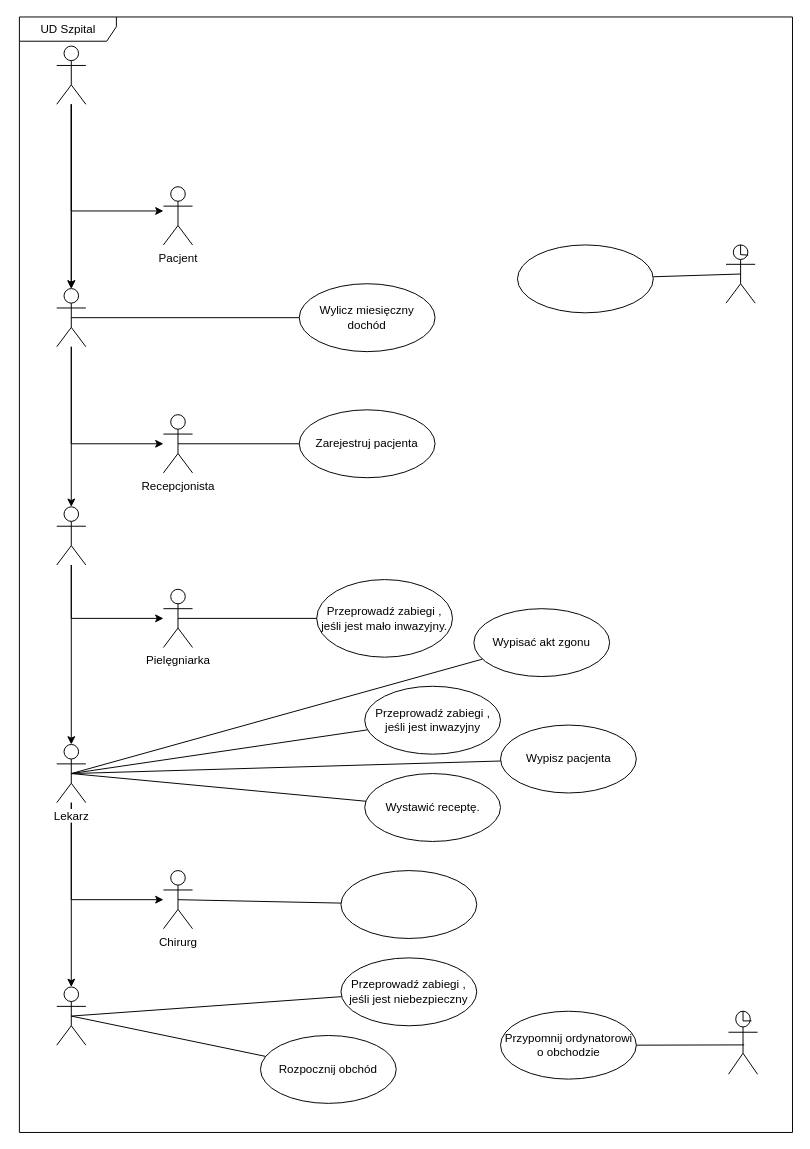
Image size: 810x1149. Some labels were removed from this diagram. The shapes that lost their labels are listed below. From the top down, each one's box as (x1, y1, x2, y2) in pixels, then its label:
(56, 45, 86, 104): Osoba
(517, 244, 653, 313): Wykonaj kopie zapasową systemu
(725, 244, 755, 303): System czasu co 24h
(56, 288, 86, 347): Pracownik
(56, 506, 86, 565): Pracownik medyczny
(340, 870, 477, 938): Przeprowadź zabiegi , jeśli jest normalny
(56, 986, 86, 1045): Ordynator
(728, 1010, 758, 1074): System czasu co 12 godzin
